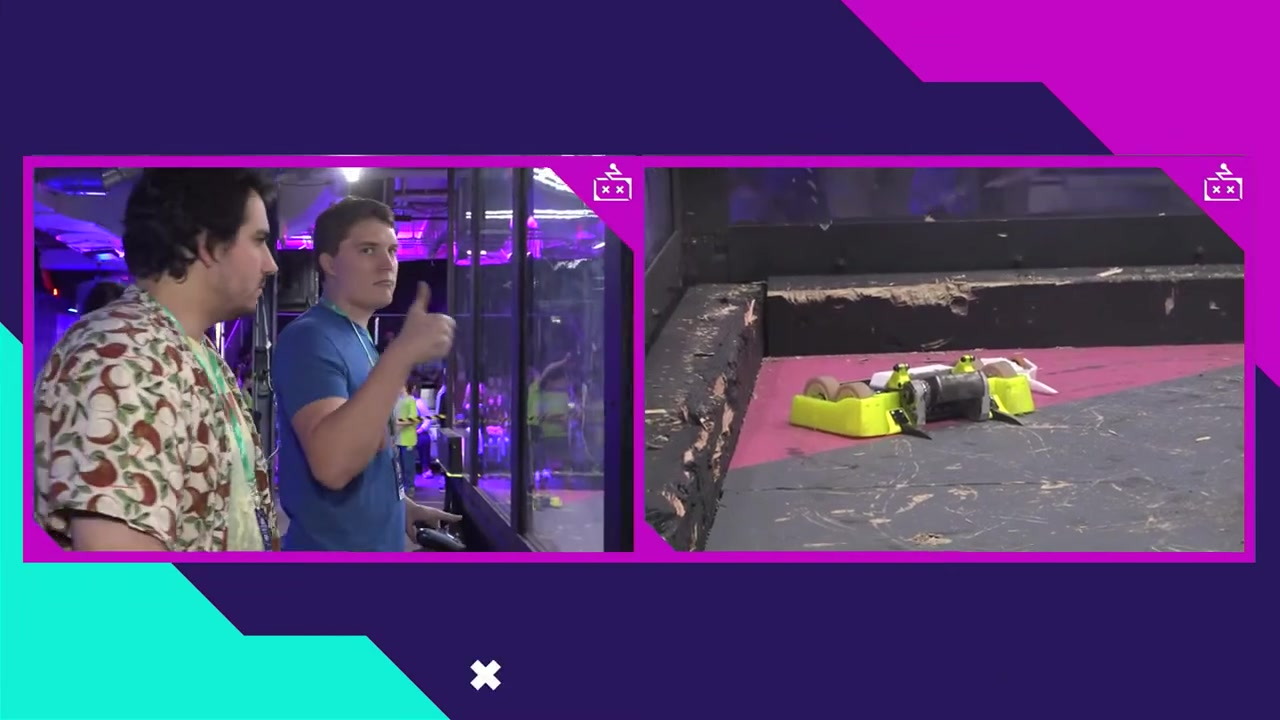combatbot: (788, 374, 1034, 439)
